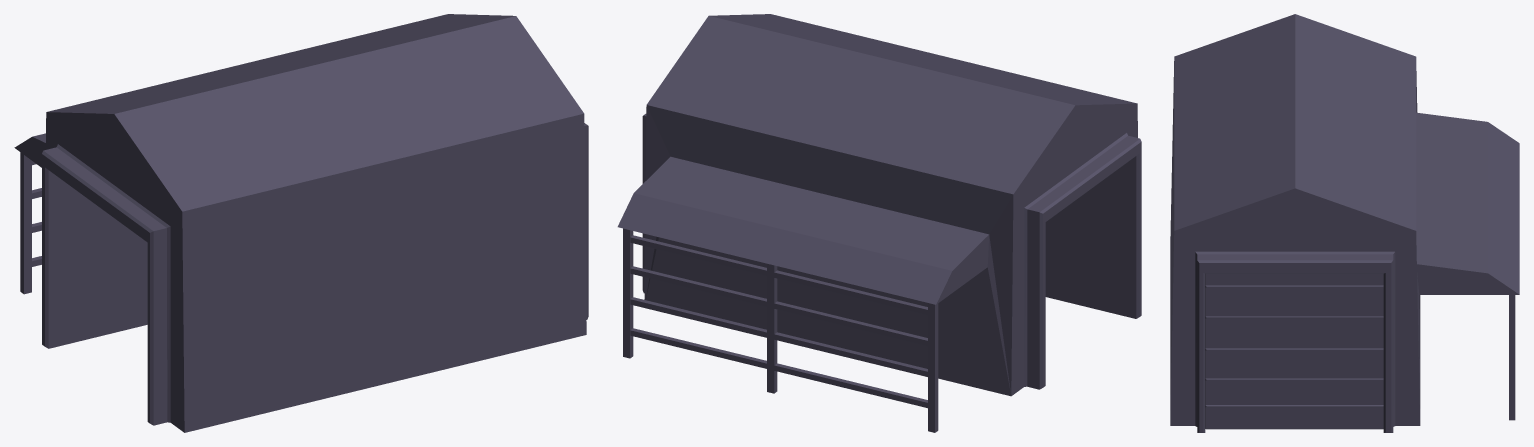
File: ShedTractor.fbx
The picture shows the model from 3 angles, left to right: view 1: azimuth 30°, elevation 25°; view 2: azimuth 150°, elevation 25°; view 3: azimuth 270°, elevation 25°; orthographic projection. The views are drawn at different scales.
Visible parts, largest first — view 1: pCube57; view 2: pCube57; view 3: pCube57.
Part boxes in pixels (bbox=[...]): pCube57: bbox=[14, 14, 588, 432]; pCube57: bbox=[617, 14, 1141, 432]; pCube57: bbox=[1170, 14, 1519, 432].
Size of the model in its own units: 4714 by 2831 by 3660.
